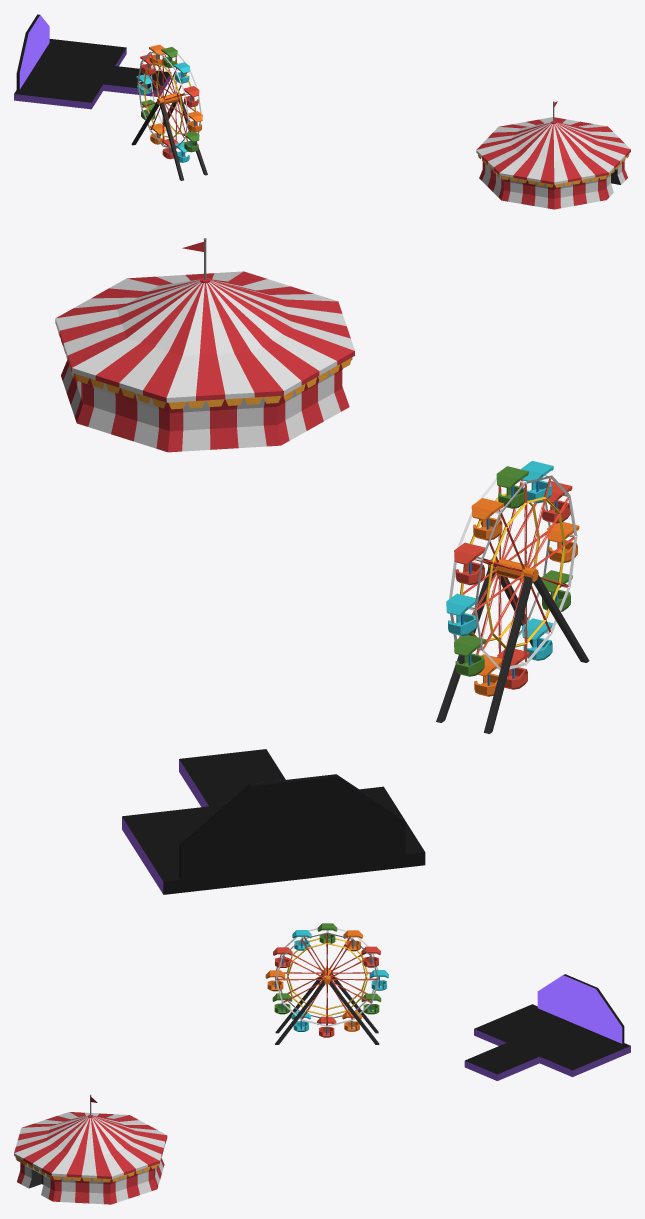
The model's file is festival-buildings.glb.
3 renders of one model, top to bottom at view 1: azimuth 30°, elevation 25°; view 2: azimuth 150°, elevation 25°; view 3: azimuth 270°, elevation 25°, orthographic. The views are drawn at different scales.
Visible parts, largest first — view 1: tent-circus-big, stage, ferris-wheel; view 2: tent-circus-big, stage, ferris-wheel; view 3: tent-circus-big, stage, ferris-wheel.
Part boxes in pixels (<box>): tent-circus-big: <box>476,101,630,209</box>; stage: <box>14,14,171,109</box>; ferris-wheel: <box>131,44,207,180</box>; tent-circus-big: <box>55,238,354,452</box>; stage: <box>122,749,425,894</box>; ferris-wheel: <box>436,461,589,733</box>; tent-circus-big: <box>14,1094,167,1204</box>; stage: <box>464,974,630,1080</box>; ferris-wheel: <box>265,923,388,1044</box>.
Size of the model in its own units: 51.71 by 13.93 by 68.99.
